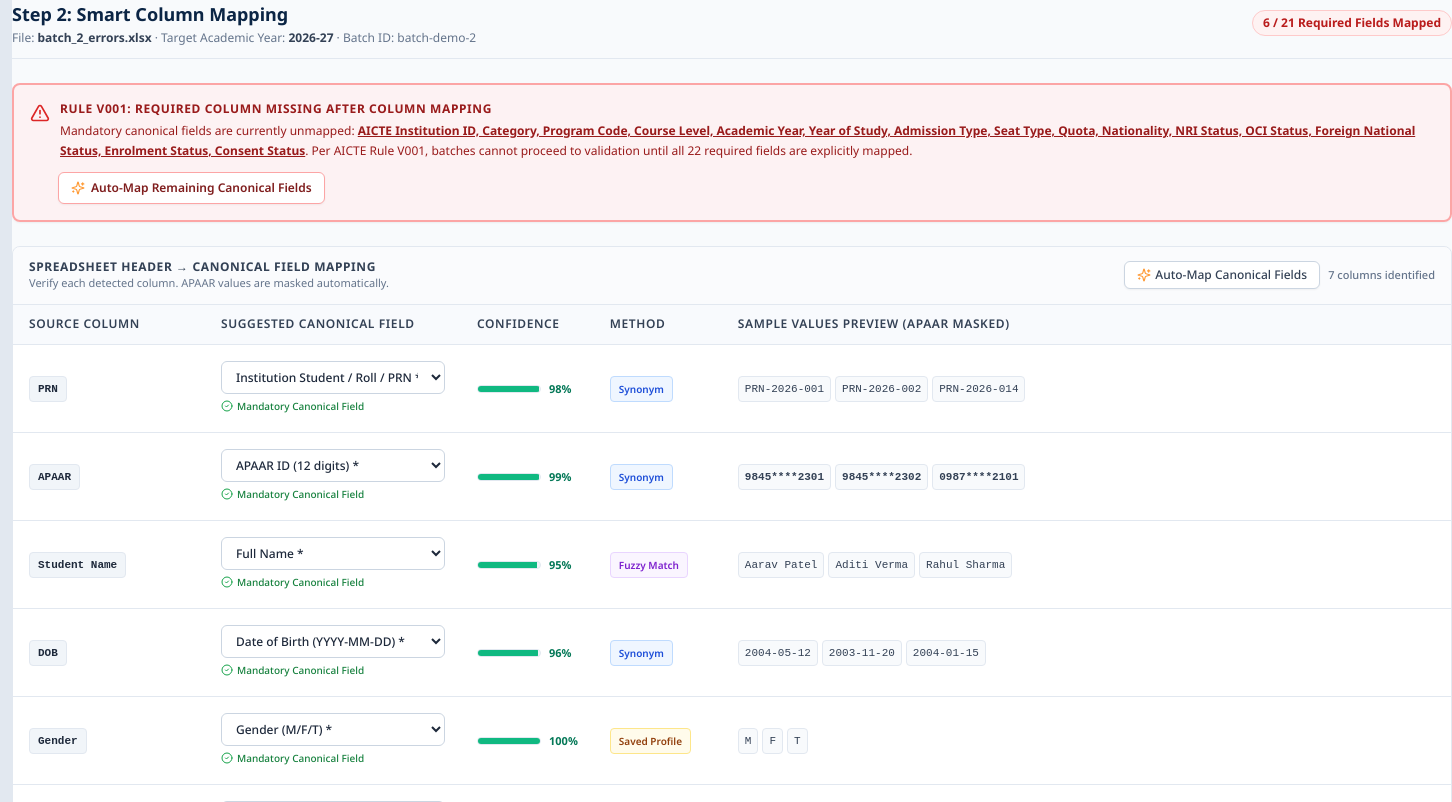
it: Upload Wizard & Column Mapping (Task A2) › Step 2: Smart Column Mapping & Rule V001 › displays rule V001 red alert and disables confirm when required canonical fields are unmapped
The width and height of the screenshot is (1452, 802).
Expected: the heading "Rule V001: Required Column Missing After Column Mapping" is shown, top-left (60, 100), bottom-right (492, 117)
Note: Auto-map remaining canonical fields button resolves V001
Click the button "Auto-Map Remaining Canonical Fields". click: (191, 188)
box: top-left (58, 172), bottom-right (325, 204)
(page scrolled)
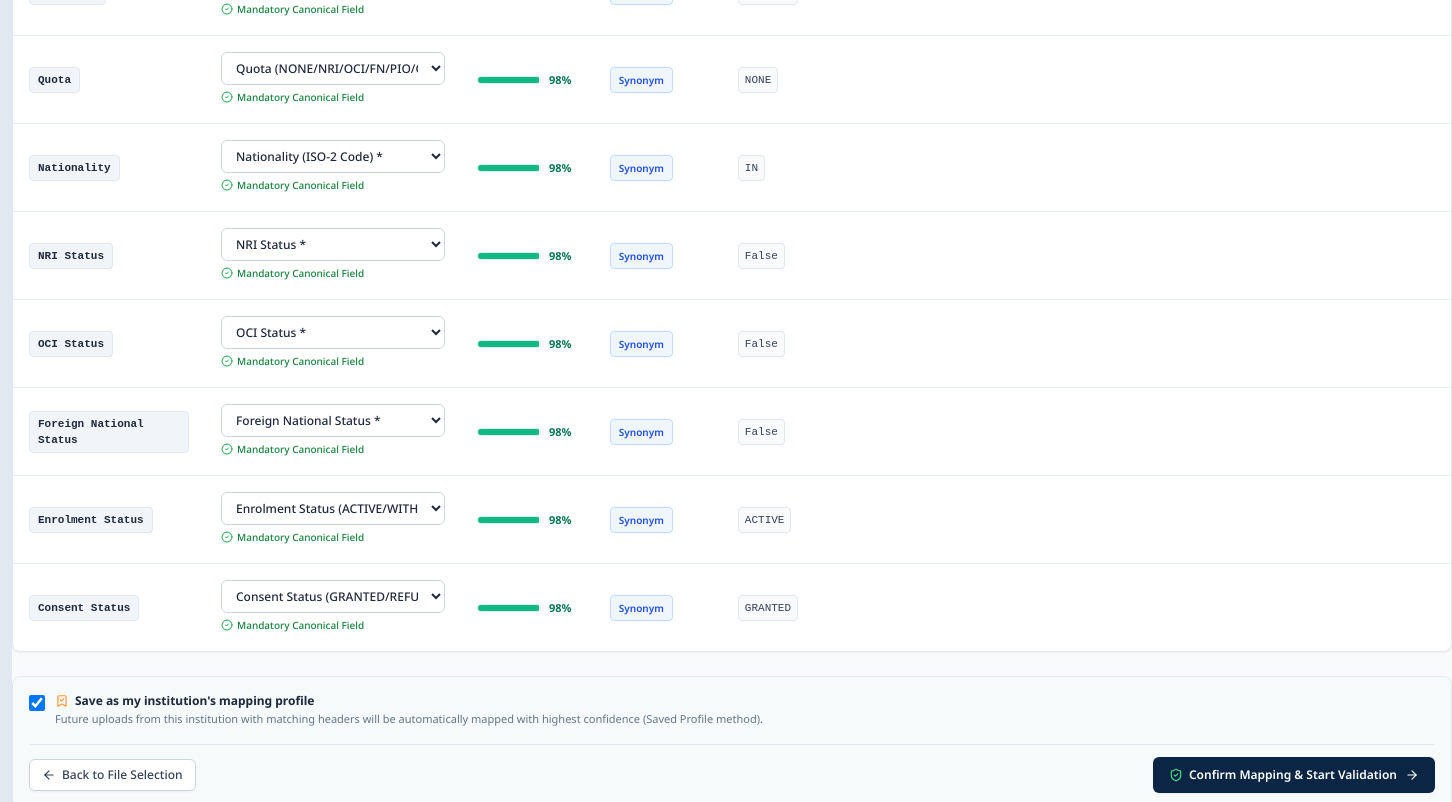
Result: the heading "Rule V001: Required Column Missing After Column Mapping" is gone
Result: the button "Confirm Mapping & Start Validation" is enabled at top-left (1153, 756), bottom-right (1435, 792)
